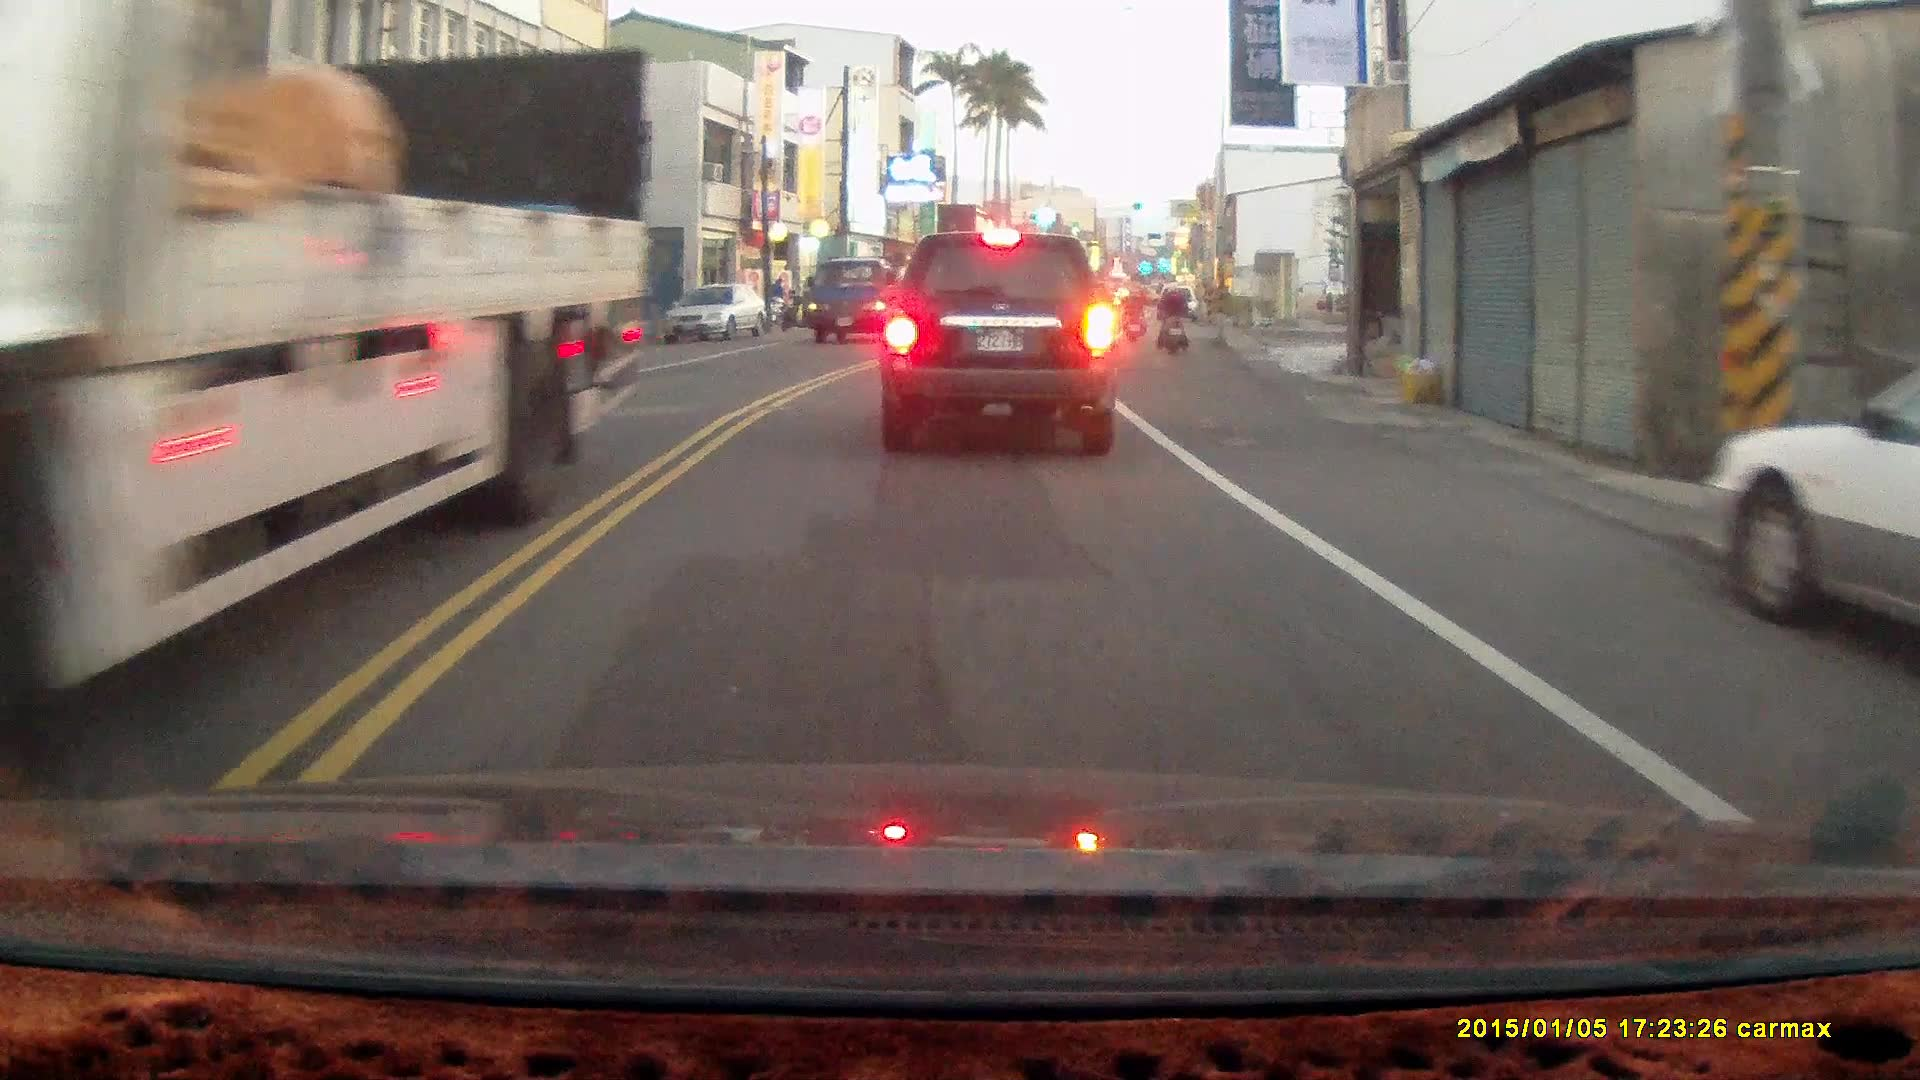rider: (1155, 278, 1186, 358), (1119, 282, 1146, 345)
vehicle: (3, 0, 630, 756), (1704, 370, 1920, 638), (878, 231, 1123, 459), (804, 256, 921, 347), (662, 283, 767, 344)
